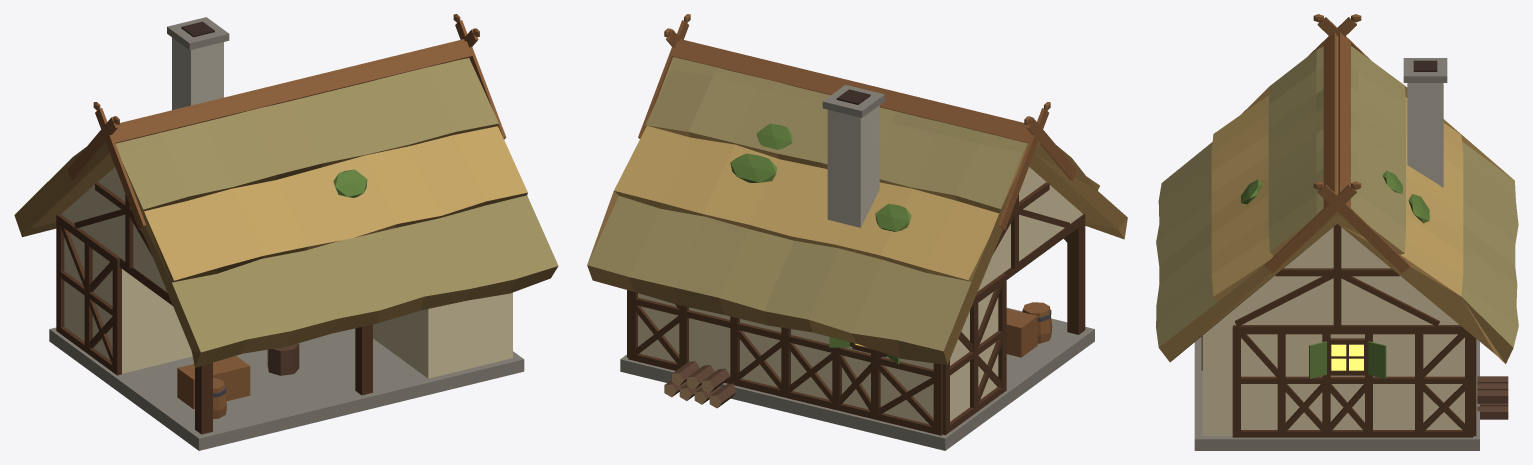
Rendered from Dorf_Schmiede.fbx.
The picture shows the model from 3 angles, left to right: view 1: azimuth 30°, elevation 25°; view 2: azimuth 150°, elevation 25°; view 3: azimuth 270°, elevation 25°; orthographic projection. The views are drawn at different scales.
Visible parts, largest first — view 1: Dorf_Schmiede; view 2: Dorf_Schmiede; view 3: Dorf_Schmiede.
Boxes of the visible parts, box(x1,y1,x2,y2) form: Dorf_Schmiede: box(14, 14, 558, 450); Dorf_Schmiede: box(587, 14, 1127, 450); Dorf_Schmiede: box(1156, 14, 1518, 450).
Size of the model in its own units: 7.73 by 6.17 by 7.
